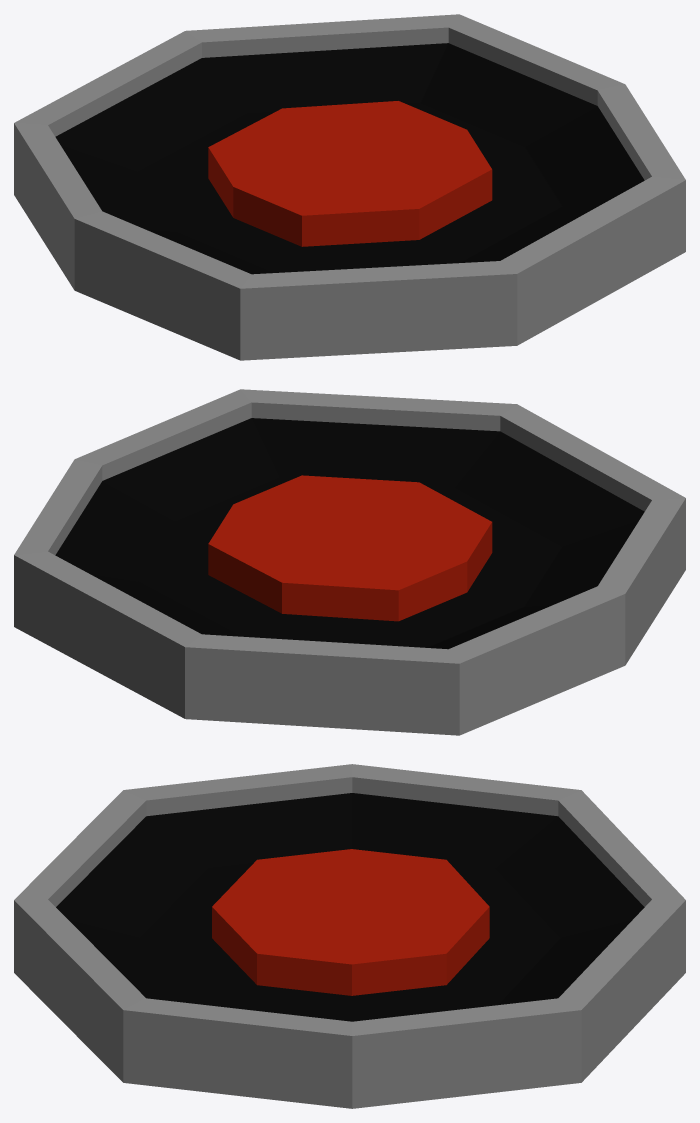
File: Trip_Punch.fbx
3 renders of one model, top to bottom at view 1: azimuth 30°, elevation 25°; view 2: azimuth 150°, elevation 25°; view 3: azimuth 270°, elevation 25°, orthographic.
Visible parts, largest first — view 1: Cube; view 2: Cube; view 3: Cube.
Part boxes in pixels (left/top/right/bottom): Cube: left=14, top=14, right=685, bottom=360; Cube: left=14, top=389, right=685, bottom=735; Cube: left=14, top=764, right=685, bottom=1108.
Bounding box in the file's own units: 422 × 53.19 × 441.
